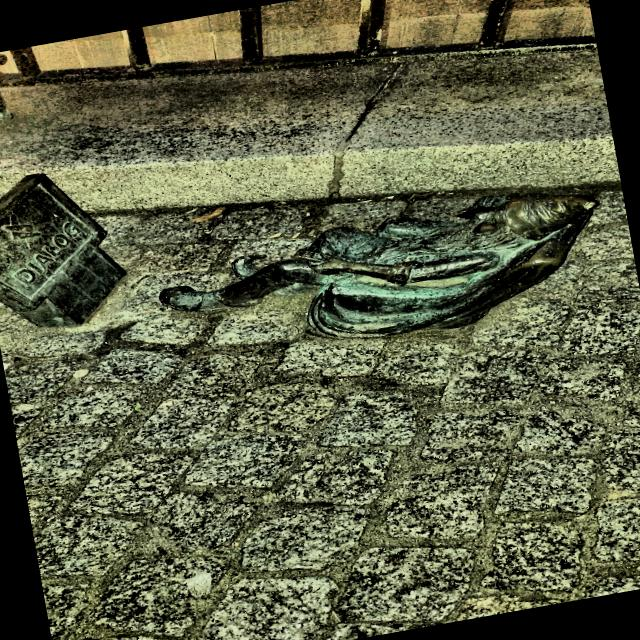Dialogomir: (158, 192, 597, 338), (0, 173, 127, 328)
